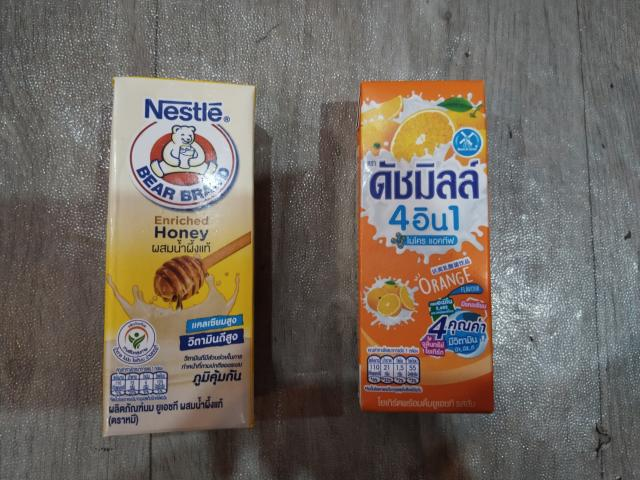drink_box: (97, 68, 257, 448), (353, 73, 502, 429)
